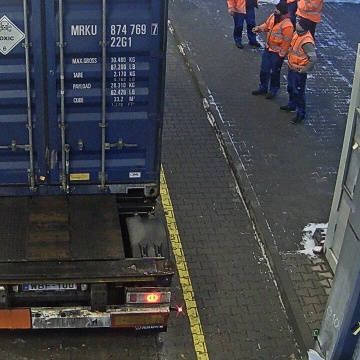serial_id: (71, 24, 157, 35)
